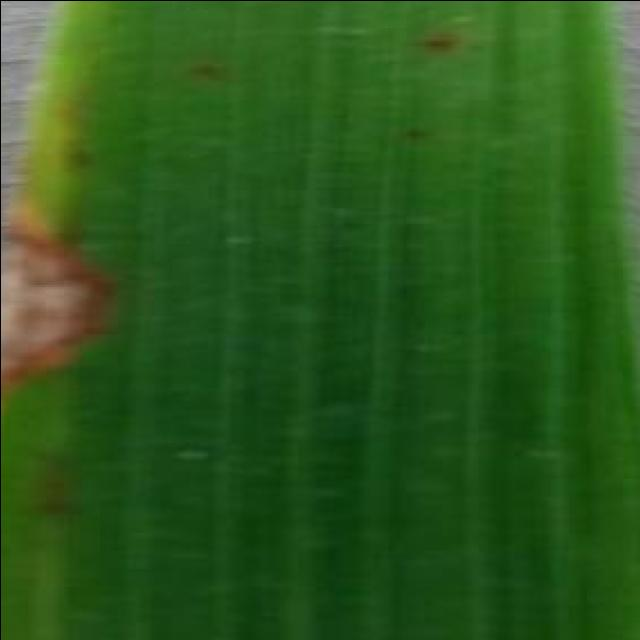Leaf_Blast: (0, 184, 156, 430)
